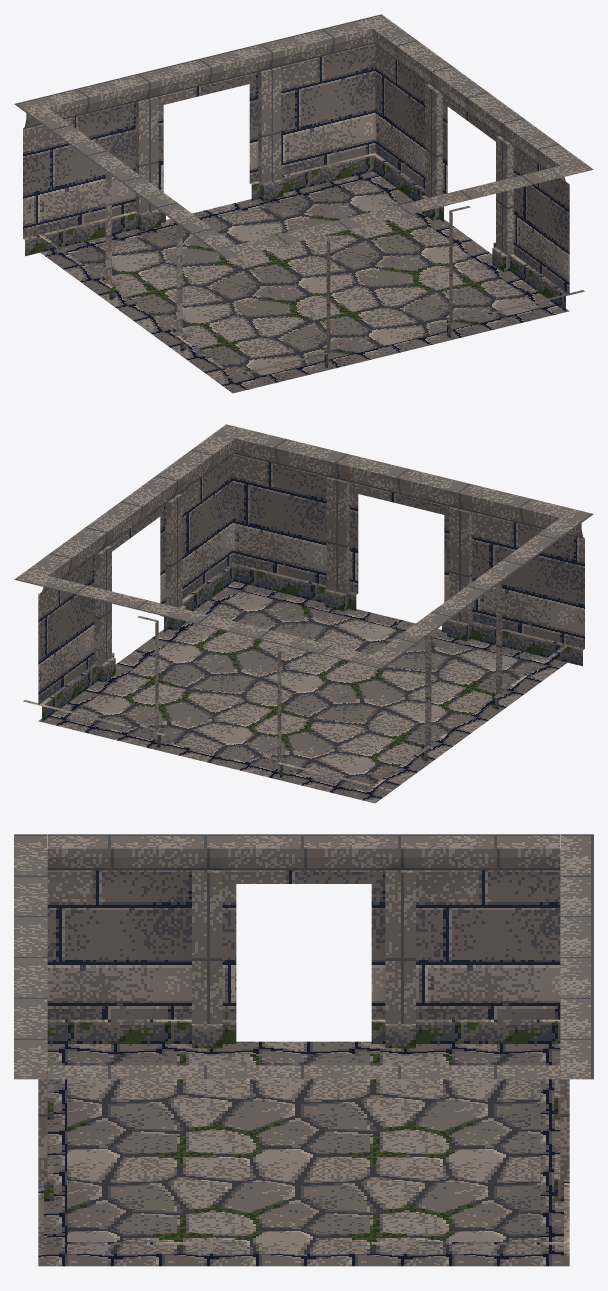
The model's file is dgn.room__hub.glb.
3 views of the same model, one above another, from view 1: azimuth 30°, elevation 25°; view 2: azimuth 150°, elevation 25°; view 3: azimuth 270°, elevation 25° (orthographic). The views are drawn at different scales.
Visible parts, largest first — view 1: kit_shell_walls, kit_shell_floor; view 2: kit_shell_walls, kit_shell_floor; view 3: kit_shell_walls, kit_shell_floor.
Part boxes in pixels (x1=…): kit_shell_walls: x1=14, y1=14, x2=593, y2=380; kit_shell_floor: x1=40, y1=171, x2=569, y2=393; kit_shell_walls: x1=14, y1=424, x2=593, y2=790; kit_shell_floor: x1=38, y1=581, x2=567, y2=803; kit_shell_walls: x1=14, y1=834, x2=593, y2=1254; kit_shell_floor: x1=38, y1=1041, x2=569, y2=1266.
Size of the model in its own units: 12 by 4.5 by 12.
5 materials, 5 textured.
